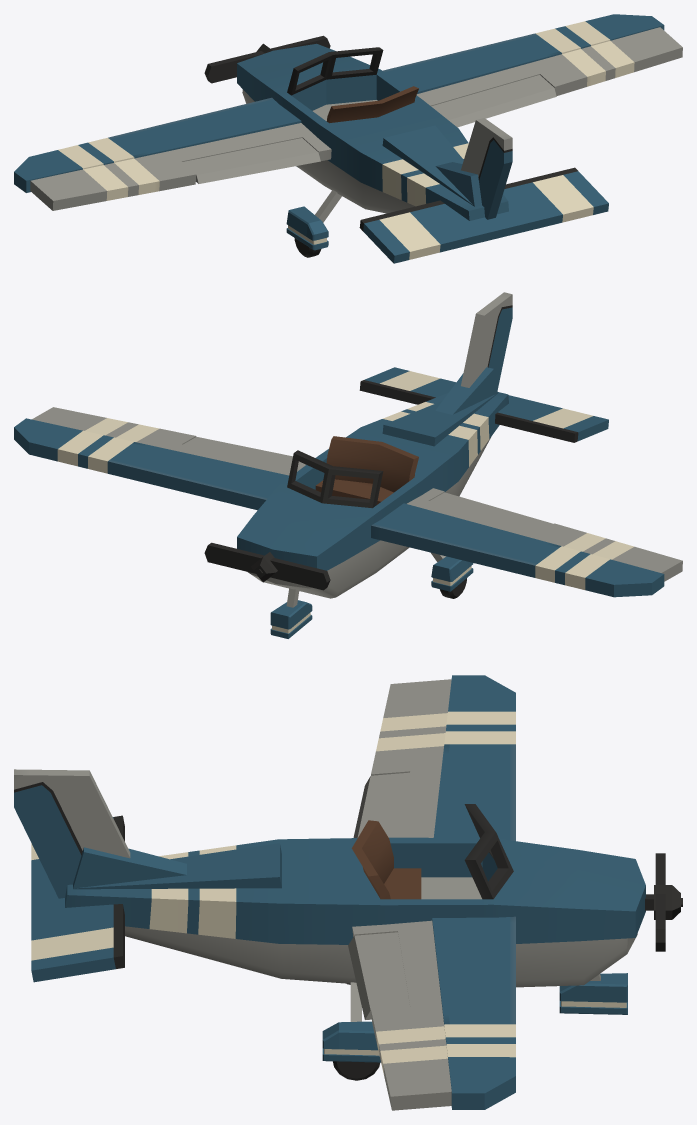
3 renders of one model, top to bottom at view 1: azimuth 30°, elevation 25°; view 2: azimuth 150°, elevation 25°; view 3: azimuth 270°, elevation 25°, orthographic. The views are drawn at different scales.
Parts seen in each view (by area): view 1: Body Top, Tail Wing, Wing L2, Wing L1, Wing R1, Wing R2, Wing Flap L, Tail Rudder, Wing Flap R, Body Extra 2, Body Lower, Cockpit Window Frame (+5 smaller); view 2: Body Top, Wing L1, Wing R1, Tail Wing, Wing L2, Seat.001, Wing R2, Tail Rudder, Body Lower, Cockpit Window Frame, Body Extra 2, Propeller Blade (+5 smaller); view 3: Body Top, Wing R1, Wing L1, Body Lower, Wing R2, Tail Rudder, Wing L2, Tail Wing, Body Extra 2, Wing Flap R, Seat.001, Body Extra 1 (+7 smaller).
Boxes of the visible parts, x1=… form: Body Top: x1=237, y1=43, x2=508, y2=220; Tail Wing: x1=359, y1=167, x2=608, y2=263; Wing L2: x1=30, y1=123, x2=331, y2=210; Wing L1: x1=14, y1=97, x2=301, y2=192; Wing R1: x1=382, y1=14, x2=664, y2=93; Wing R2: x1=416, y1=27, x2=682, y2=106; Wing Flap L: x1=182, y1=138, x2=320, y2=183; Tail Rudder: x1=461, y1=118, x2=512, y2=219; Wing Flap R: x1=431, y1=75, x2=556, y2=127; Body Extra 2: x1=382, y1=125, x2=473, y2=205; Body Lower: x1=242, y1=89, x2=415, y2=213; Cockpit Window Frame: x1=287, y1=47, x2=383, y2=95; Body Top: x1=237, y1=392, x2=508, y2=570; Wing L1: x1=371, y1=503, x2=664, y2=597; Wing R1: x1=14, y1=418, x2=288, y2=510; Tail Wing: x1=359, y1=367, x2=608, y2=442; Wing L2: x1=407, y1=488, x2=682, y2=581; Seat.001: x1=315, y1=436, x2=418, y2=504; Wing R2: x1=32, y1=407, x2=299, y2=475; Tail Rudder: x1=461, y1=292, x2=512, y2=389; Body Lower: x1=248, y1=437, x2=490, y2=598; Cockpit Window Frame: x1=287, y1=450, x2=383, y2=508; Body Extra 2: x1=382, y1=394, x2=496, y2=446; Propeller Blade: x1=204, y1=542, x2=330, y2=590; Body Top: x1=65, y1=837, x2=645, y2=944; Wing R1: x1=432, y1=916, x2=515, y2=1109; Wing L1: x1=433, y1=675, x2=515, y2=840; Body Lower: x1=125, y1=926, x2=637, y2=987; Wing R2: x1=352, y1=920, x2=451, y2=1110; Tail Rudder: x1=14, y1=769, x2=130, y2=898; Wing L2: x1=371, y1=679, x2=451, y2=837; Tail Wing: x1=31, y1=815, x2=124, y2=982; Body Extra 2: x1=75, y1=843, x2=281, y2=889; Wing Flap R: x1=348, y1=932, x2=409, y2=1019; Seat.001: x1=351, y1=820, x2=421, y2=899; Body Extra 1: x1=73, y1=847, x2=186, y2=889.
Size of the model in its own units: 1.94 by 0.5592 by 1.31.
1 material, 1 textured.
